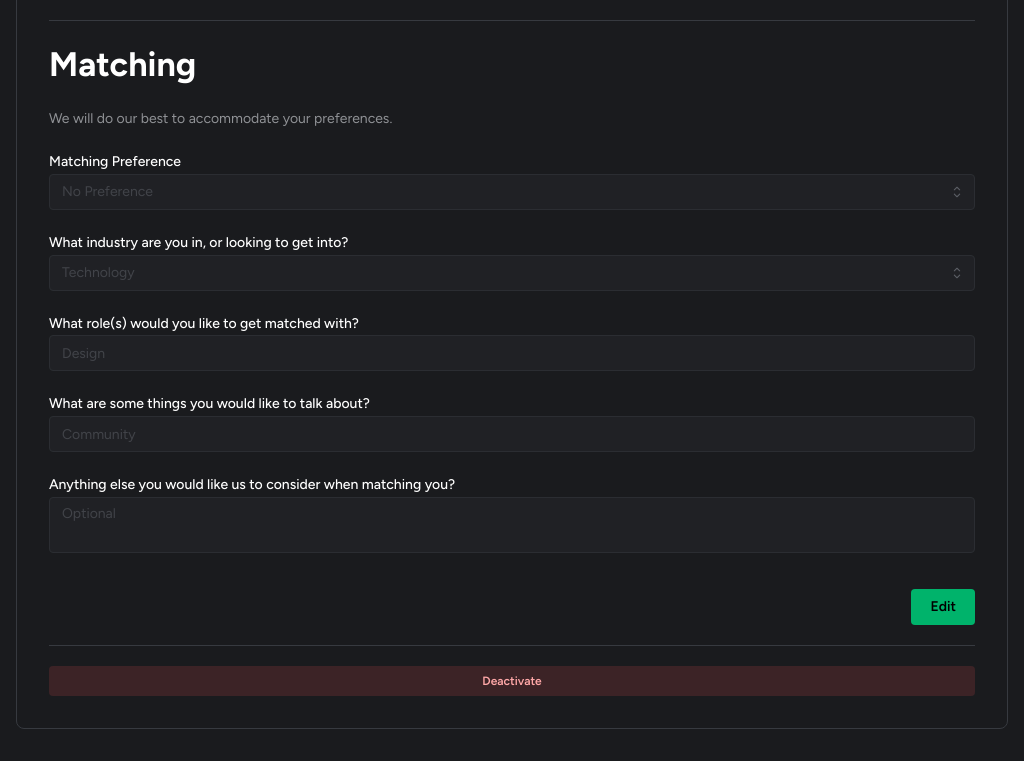
deactivating asks for an optional reason in a confirm modal
This screenshot has width=1024, height=761.
(page scrolled)
Click the button "Deactivate" at (512, 681), box left=49, top=666, right=975, bottom=696
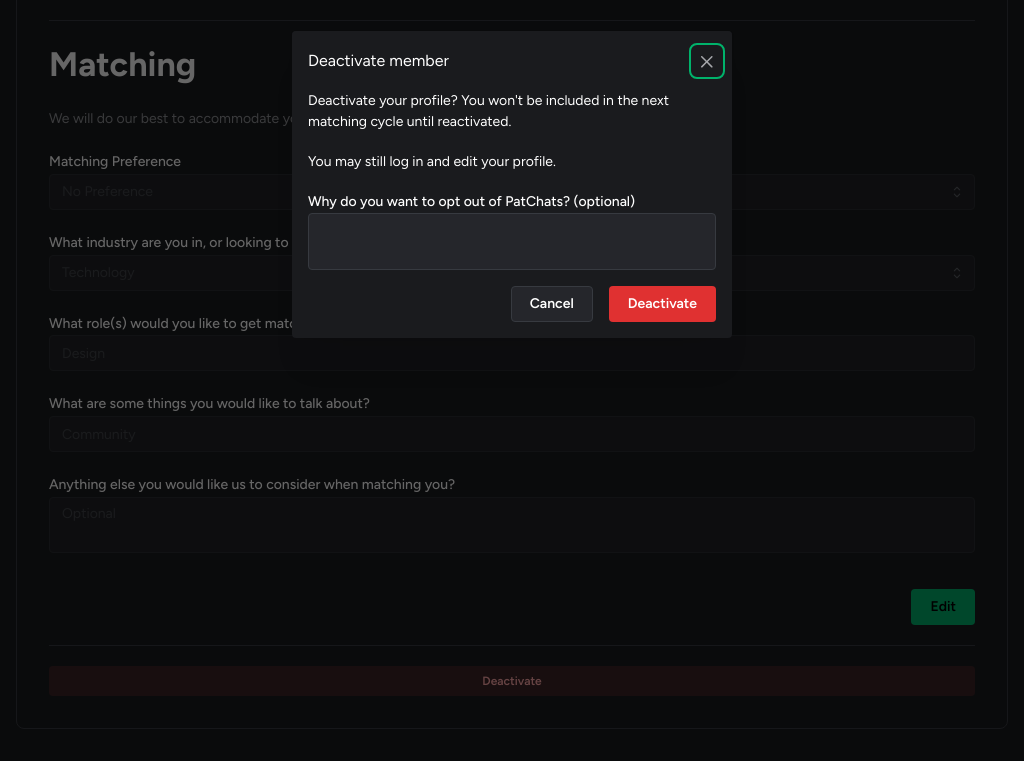
Expected: the heading "Deactivate member" is shown, left=308, top=53, right=449, bottom=69
Expected: the text box labelled "Why do you want to opt out of PatChats? (optional)" is shown, left=308, top=213, right=716, bottom=270
